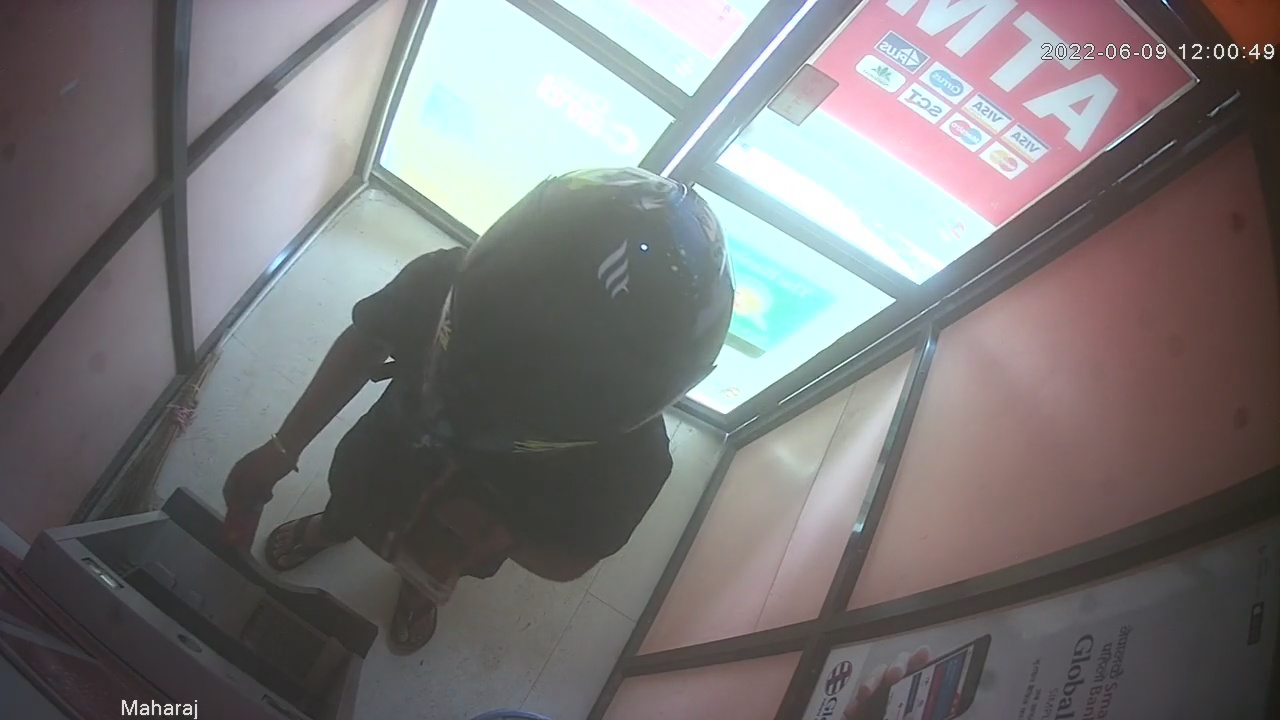helmet: (416, 163, 734, 456)
person: (220, 164, 734, 663)
